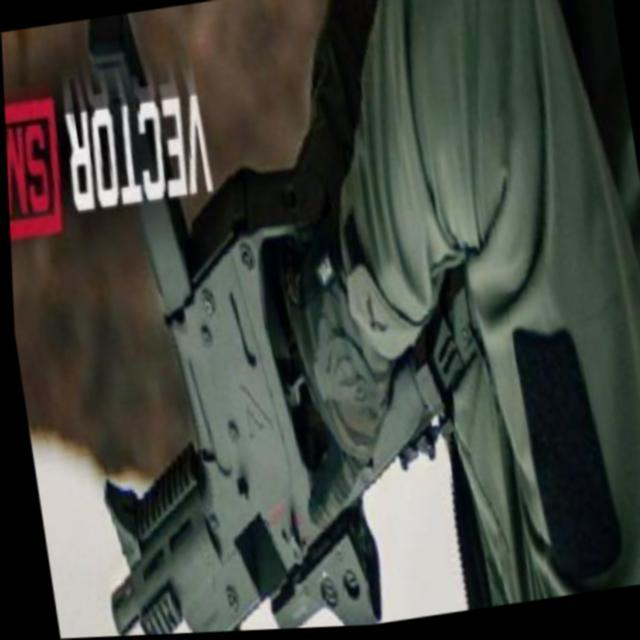weapon: (21, 0, 490, 639)
